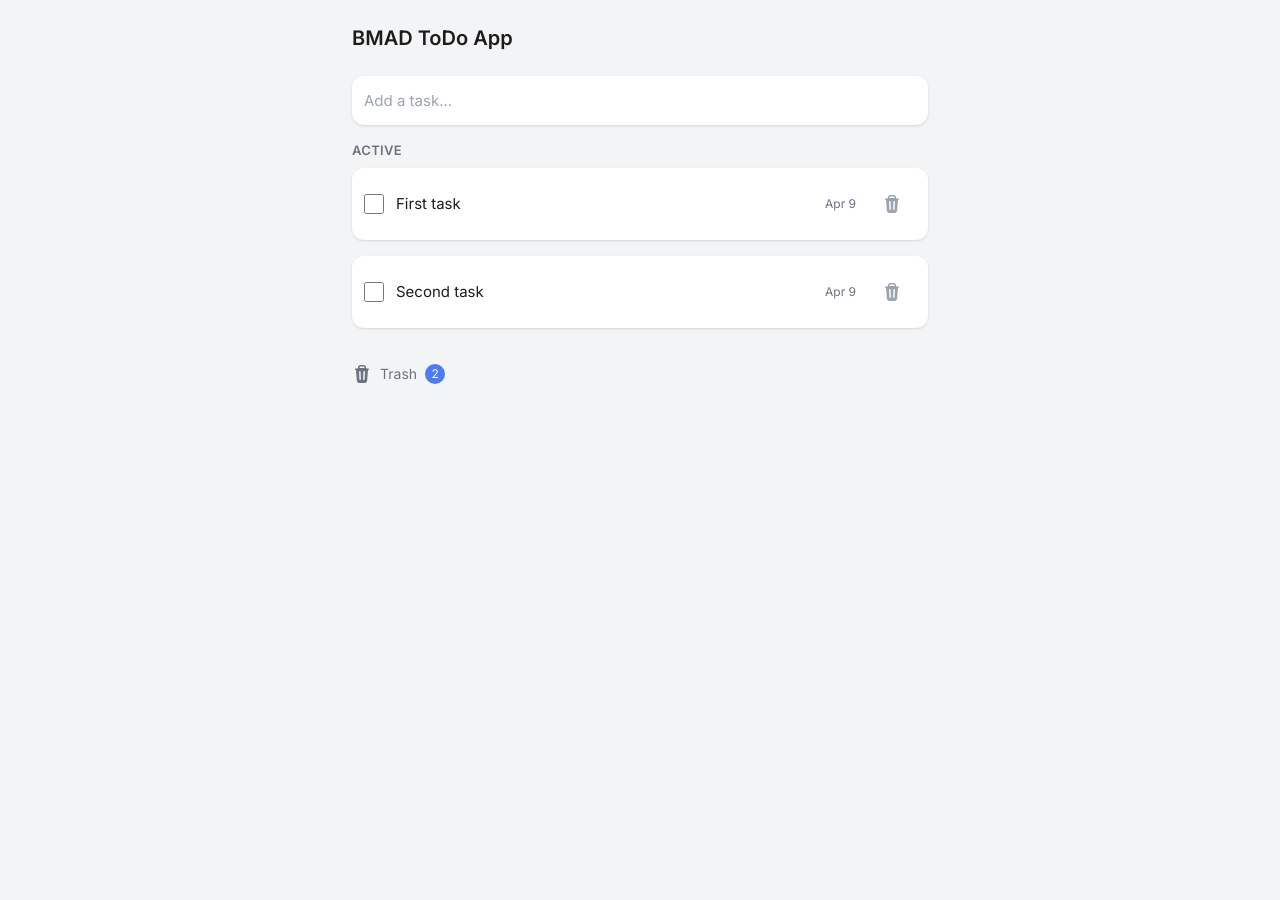
Test case: App › restores task when undo is clicked
The width and height of the screenshot is (1280, 900).
Expected: the text "First task" is shown, [396, 194, 461, 213]
Click the button named "delete \"First task\"" at (892, 204), box [868, 180, 916, 228]
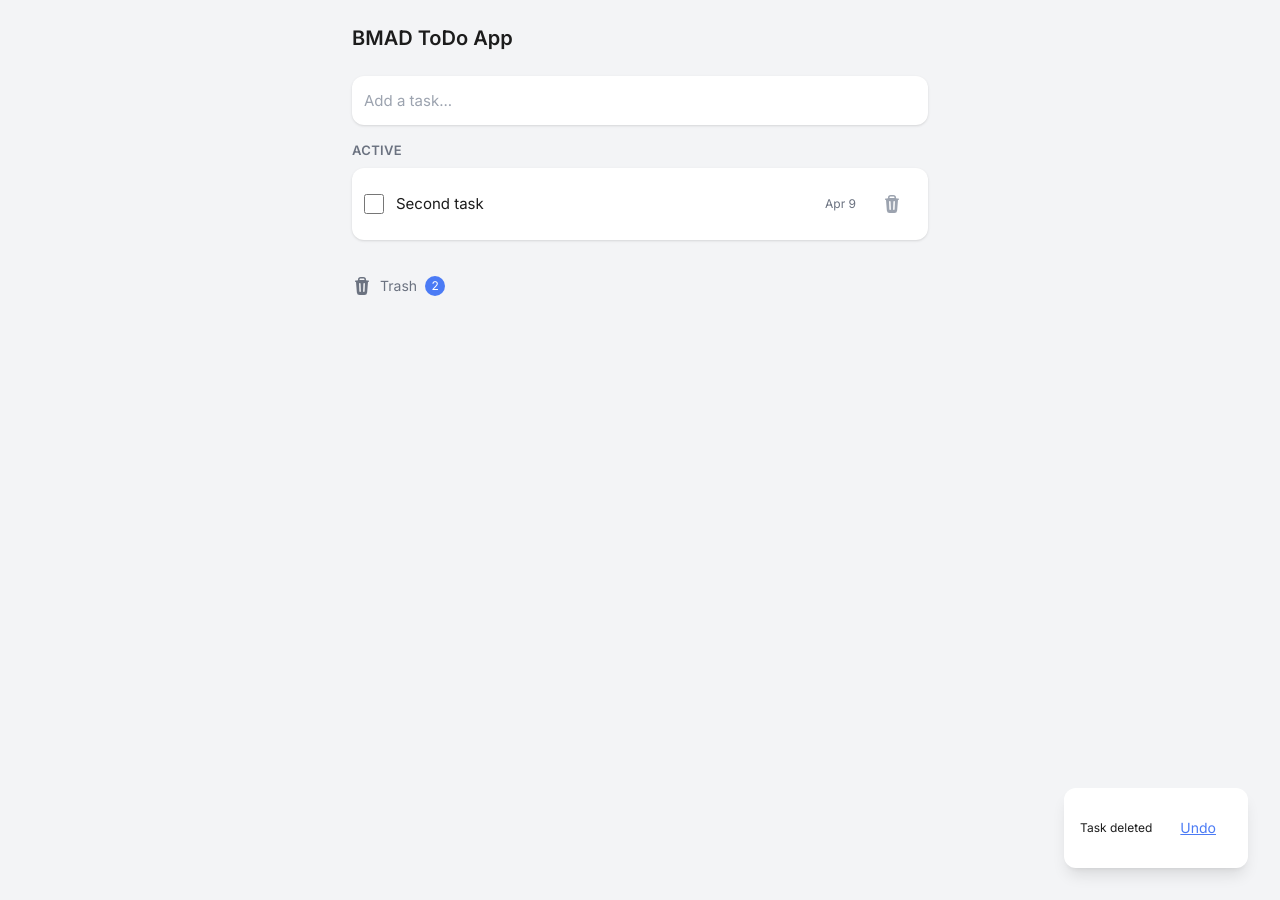
Expected: the text "Task deleted" is shown, [1080, 820, 1152, 836]
Click the button "Undo" at (1198, 828), box [1164, 804, 1232, 852]
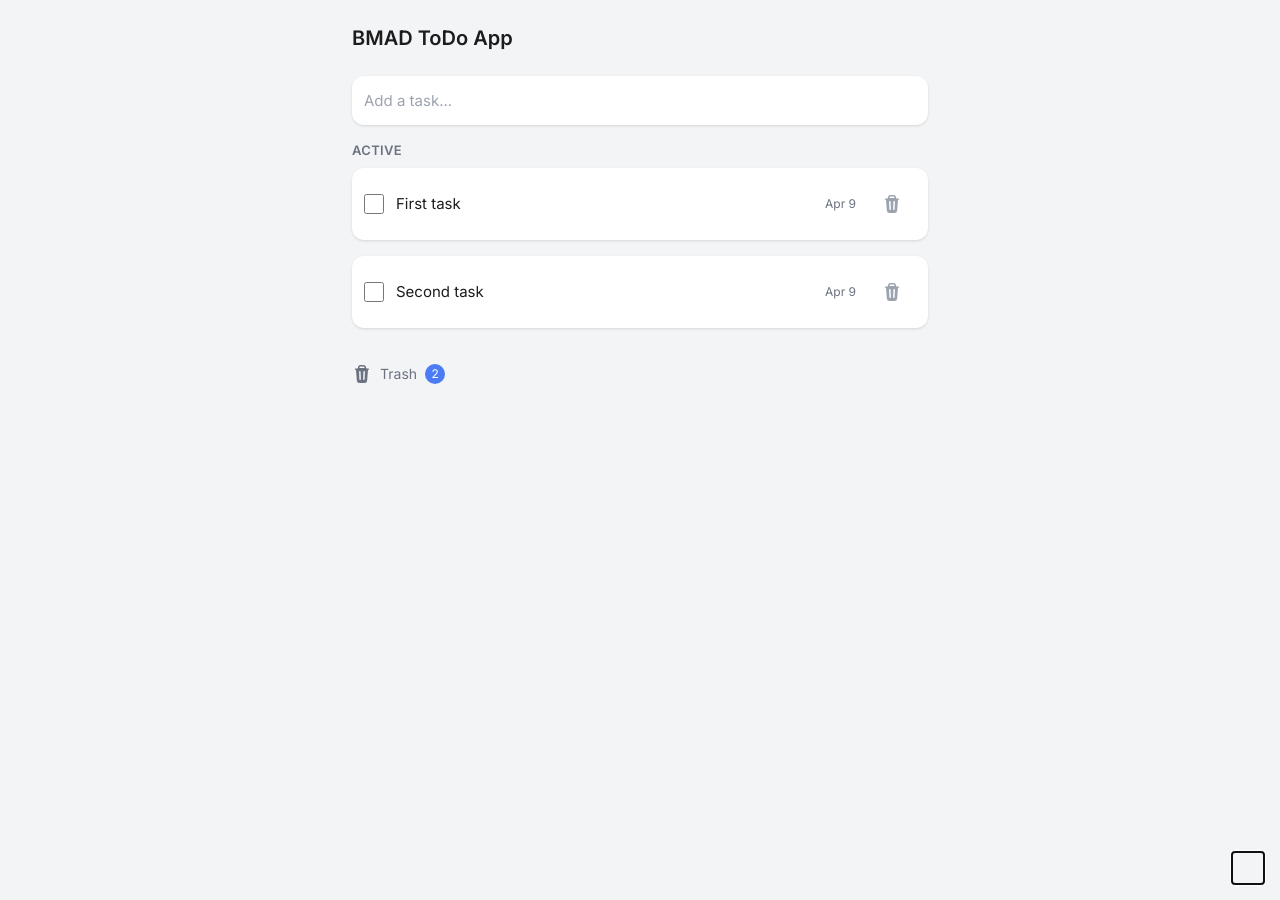
Expected: the text "First task" is shown, [396, 194, 461, 213]
